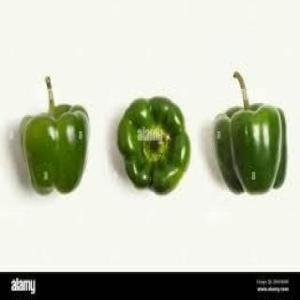bell_pepper: (213, 62, 295, 212), (10, 70, 96, 210), (119, 89, 195, 205)
